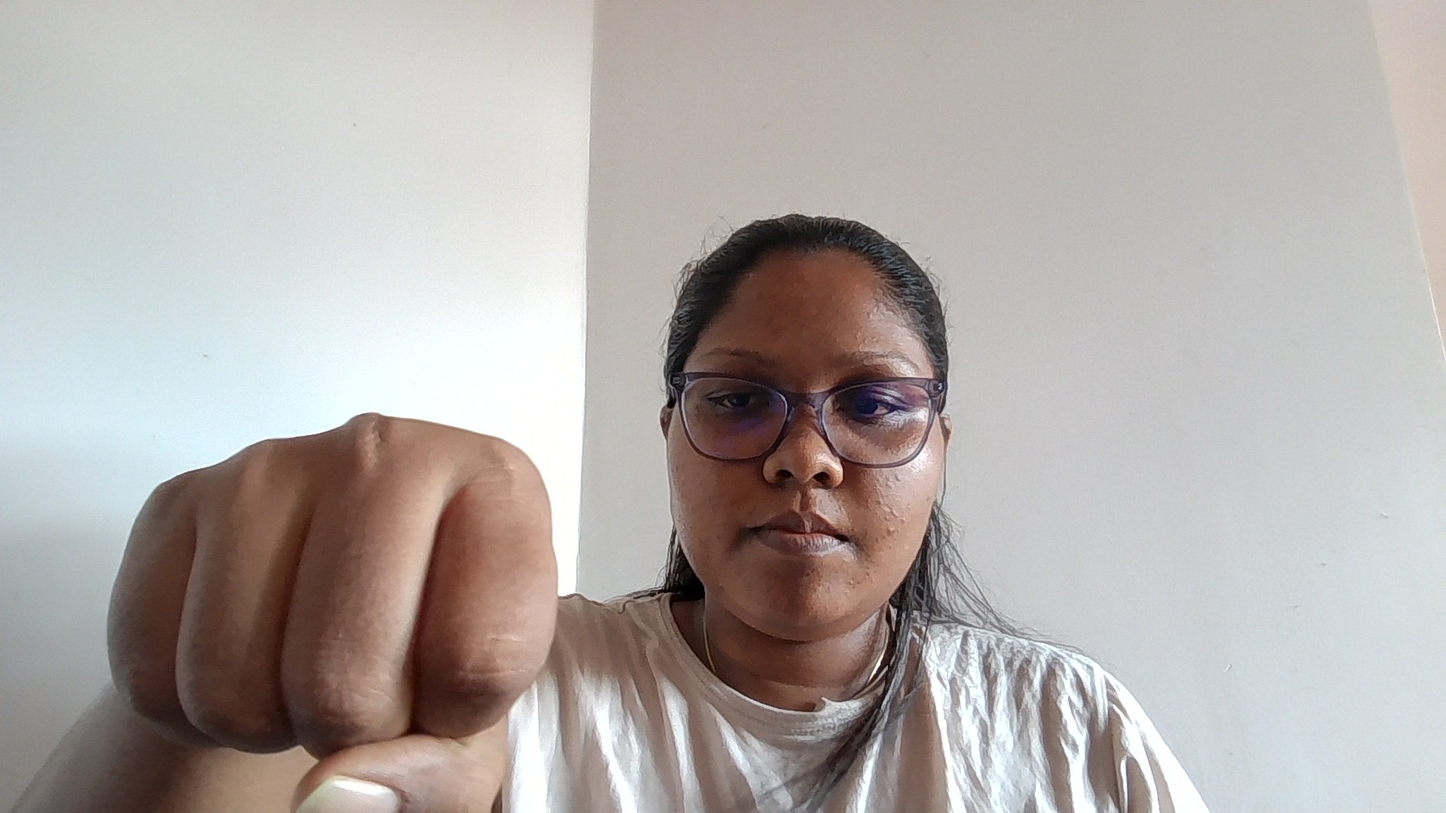Yes: (58, 314, 613, 813)
